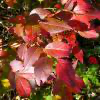Blueberry leaf: (52, 57, 77, 87), (33, 56, 56, 84), (43, 42, 73, 58), (23, 45, 42, 70), (28, 8, 54, 26), (40, 19, 71, 34), (28, 8, 54, 25), (15, 76, 33, 100), (74, 15, 92, 34), (77, 28, 100, 41), (72, 45, 85, 65), (12, 20, 25, 39), (17, 42, 29, 62), (7, 60, 27, 72), (65, 30, 77, 48), (66, 31, 76, 47), (88, 55, 99, 66), (64, 0, 74, 11)
